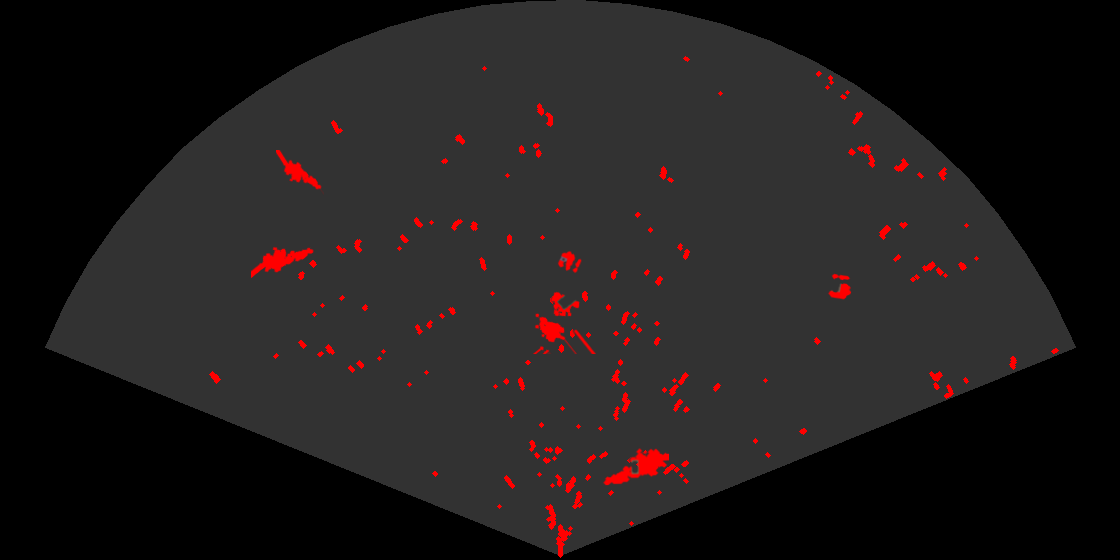ball: (826, 272, 853, 301), (556, 249, 583, 275)
cage: (531, 290, 597, 354)
frogman: (602, 446, 669, 487), (251, 245, 315, 280), (276, 150, 324, 196)
